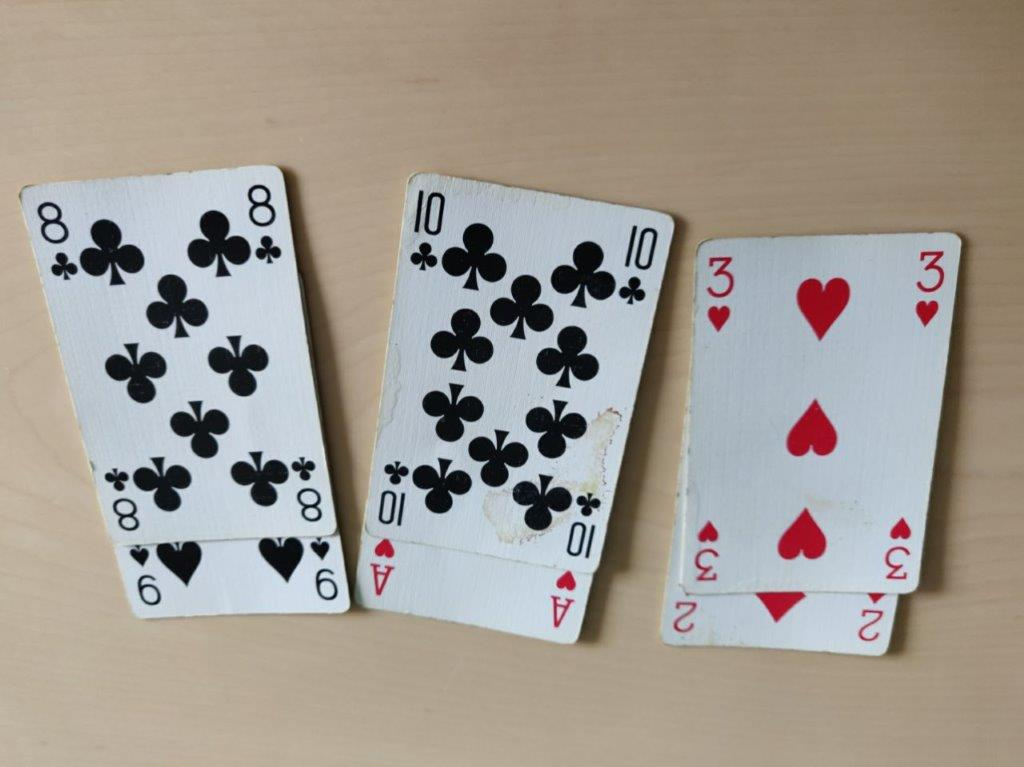10C: (404, 179, 448, 273), (616, 213, 660, 307)
3H: (910, 238, 947, 332), (702, 246, 737, 335)
8C: (35, 197, 82, 283), (245, 182, 292, 268)
